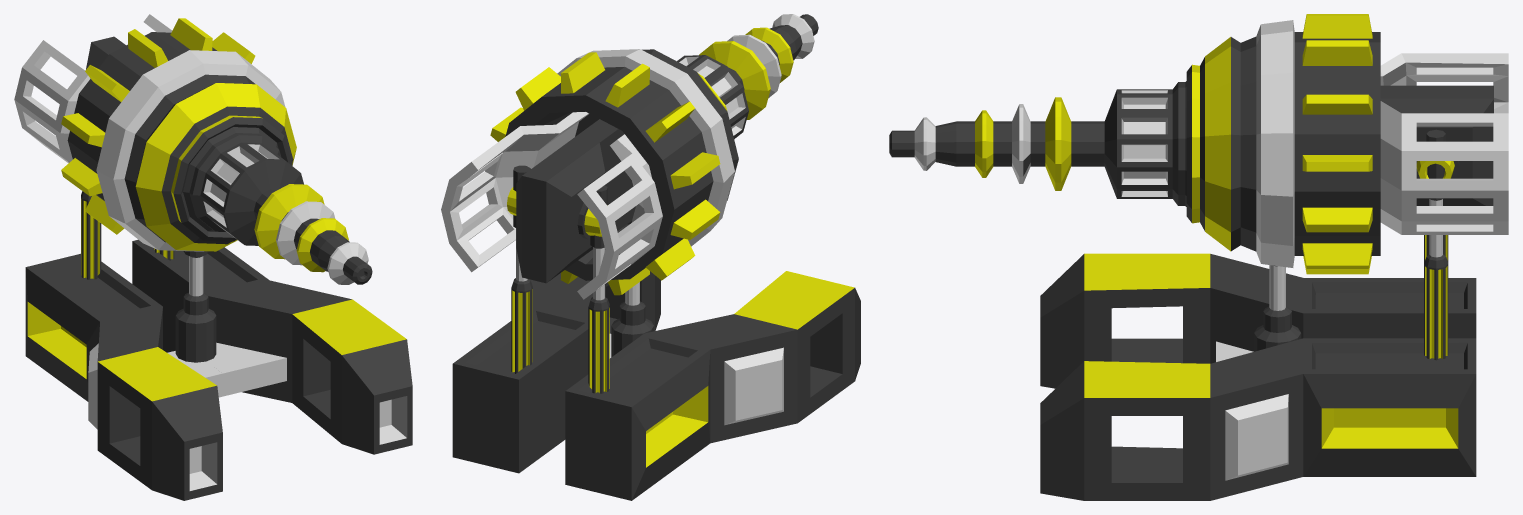
The model's file is tower7_1.fbx.
3 views of the same model, side by side, from view 1: azimuth 30°, elevation 25°; view 2: azimuth 150°, elevation 25°; view 3: azimuth 270°, elevation 25° (orthographic). The views are drawn at different scales.
Visible parts, largest first — view 1: polySurface93; view 2: polySurface93; view 3: polySurface93.
Part boxes in pixels (x1,y1,x2,y2): polySurface93: (14,14,412,500); polySurface93: (441,14,860,500); polySurface93: (889,14,1508,500).
Bounding box in the file's own units: 0.4945 × 0.641 × 0.8975.
